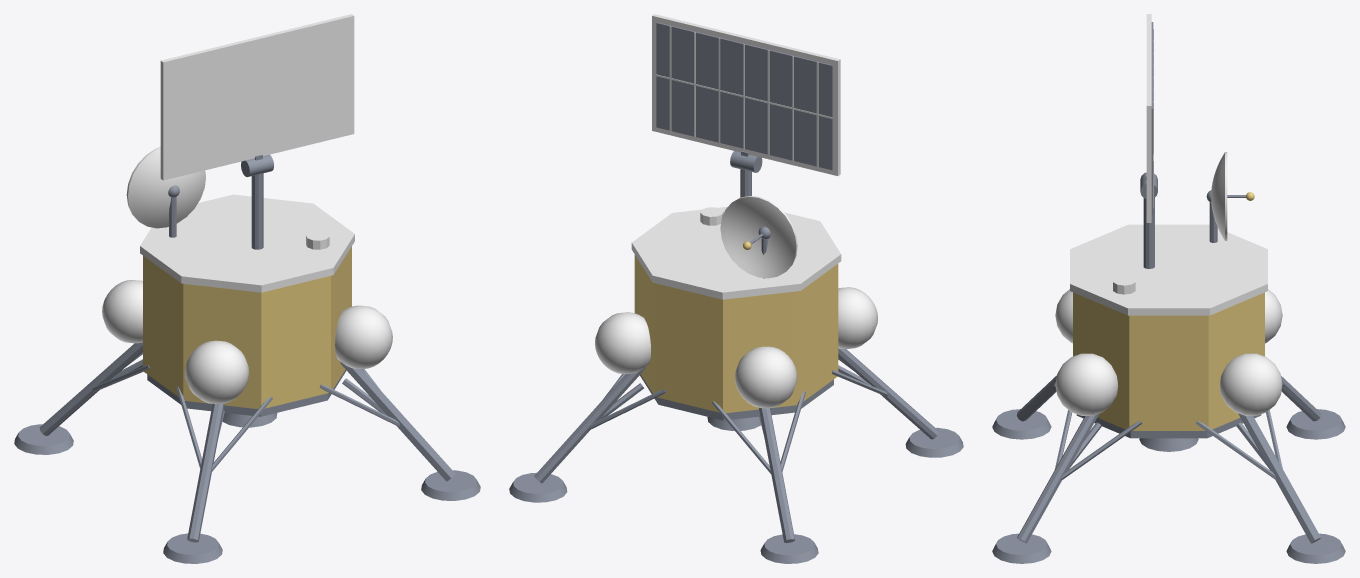
Rendered from lander.glb.
The picture shows the model from 3 angles, left to right: view 1: azimuth 30°, elevation 25°; view 2: azimuth 150°, elevation 25°; view 3: azimuth 270°, elevation 25°; orthographic projection. The views are drawn at different scales.
Parts seen in each view (by area): view 1: SolarPanel_white, Body_white, Body_gold, Body_gray, Antenna_white; view 2: Body_gold, Body_white, SolarPanel_gray, Body_gray, SolarPanel_white, Antenna_white; view 3: Body_white, Body_gold, Body_gray, SolarPanel_white, Antenna_white, SolarPanel_gray.
Boxes of the visible parts, box(x1,y1,x2,y2) form: SolarPanel_white: box(160, 14, 354, 180); Body_white: box(102, 194, 392, 403); Body_gold: box(143, 246, 351, 408); Body_gray: box(14, 173, 480, 563); Antenna_white: box(126, 146, 205, 228); Body_gold: box(634, 255, 838, 413); Body_white: box(595, 206, 877, 408); SolarPanel_gray: box(656, 22, 832, 172); Body_gray: box(509, 169, 963, 563); SolarPanel_white: box(652, 14, 840, 175); Antenna_white: box(720, 196, 797, 278); Body_white: box(1055, 224, 1282, 415); Body_gold: box(1073, 292, 1264, 430); Body_gray: box(992, 198, 1345, 563); SolarPanel_white: box(1146, 14, 1153, 222); Antenna_white: box(1211, 152, 1227, 240); SolarPanel_gray: box(1140, 22, 1157, 214).
Bounding box in the file's own units: 3.57 × 4.78 × 3.57.
